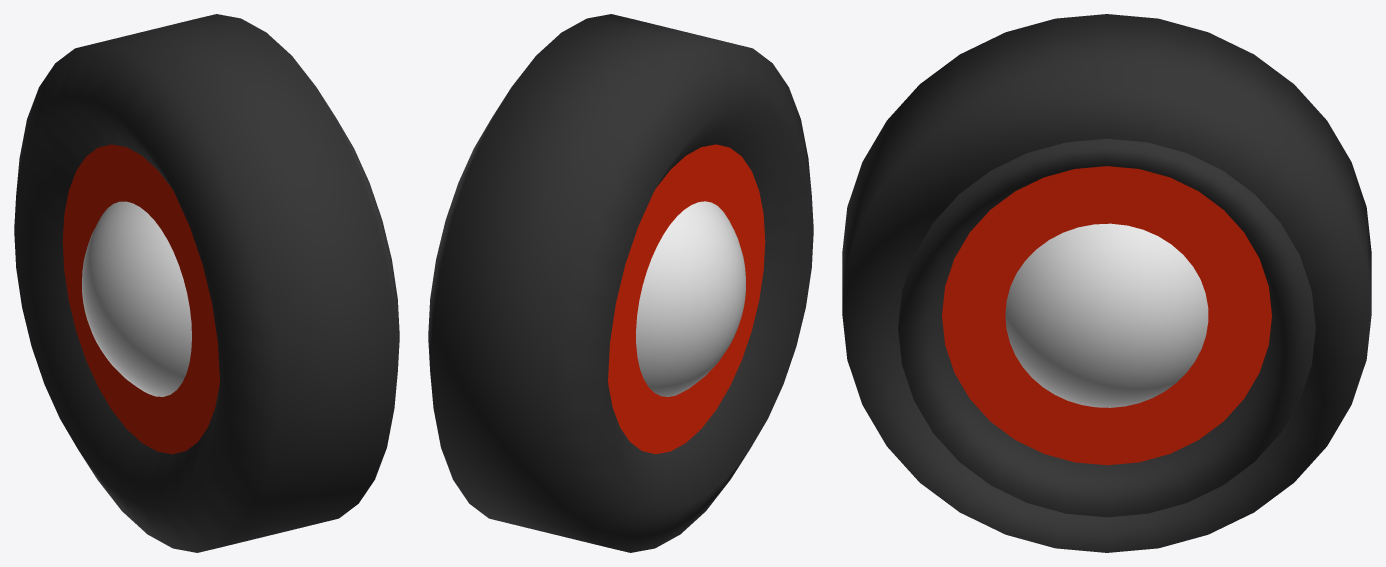
File: AltesRad_03_Weich.fbx
3 views of the same model, side by side, from view 1: azimuth 30°, elevation 25°; view 2: azimuth 150°, elevation 25°; view 3: azimuth 270°, elevation 25° (orthographic).
Visible parts, largest first — view 1: Zylinder, Zylinder.001, Kugel; view 2: Zylinder, Zylinder.001, Kugel; view 3: Zylinder, Zylinder.001, Kugel.
Boxes of the visible parts, x1=… form: Zylinder: x1=14, y1=14, x2=399, y2=552; Zylinder.001: x1=62, y1=144, x2=219, y2=454; Kugel: x1=82, y1=201, x2=191, y2=396; Zylinder: x1=428, y1=14, x2=813, y2=552; Zylinder.001: x1=608, y1=144, x2=765, y2=454; Kugel: x1=636, y1=201, x2=745, y2=396; Zylinder: x1=842, y1=14, x2=1371, y2=552; Zylinder.001: x1=942, y1=166, x2=1271, y2=465; Kugel: x1=1005, y1=223, x2=1208, y2=407.
Bounding box in the file's own units: 95.99 × 200 × 200.
